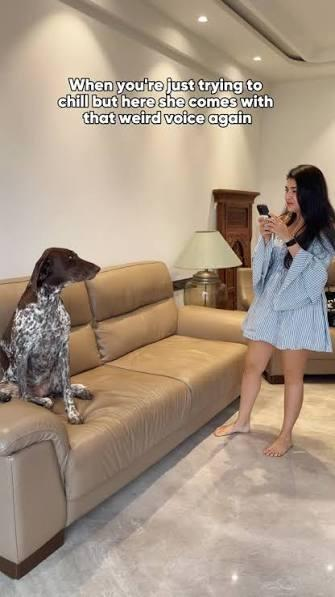adult_dog: (0, 248, 101, 424)
